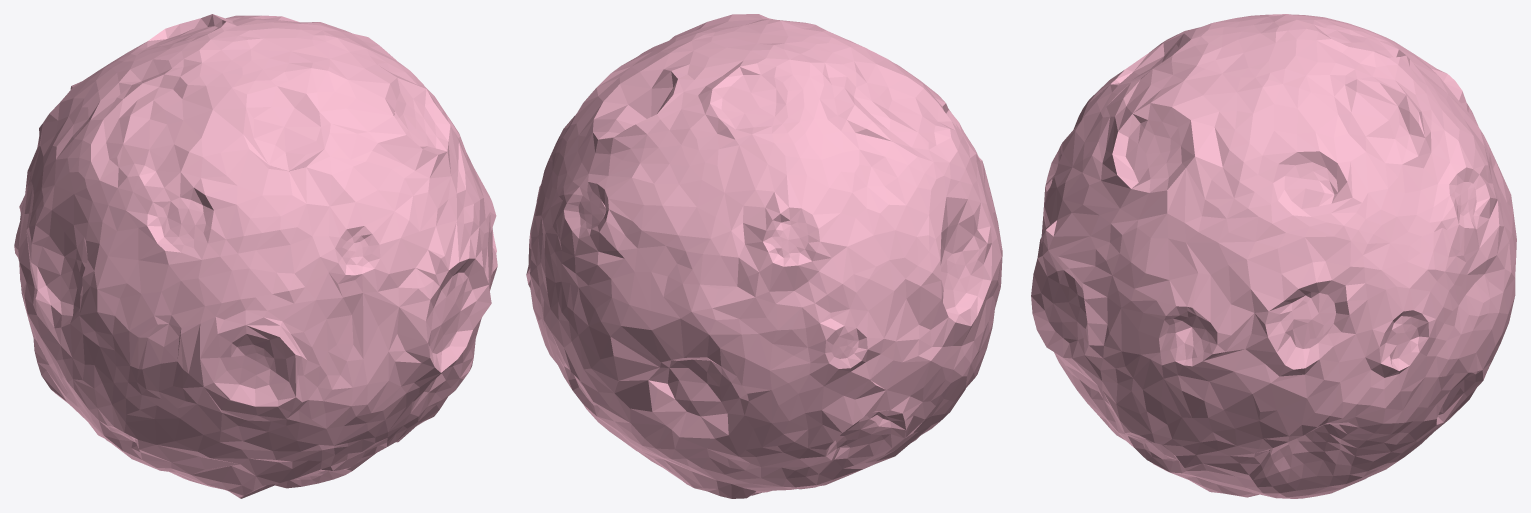
File: Planet_29.glb
The picture shows the model from 3 angles, left to right: view 1: azimuth 30°, elevation 25°; view 2: azimuth 150°, elevation 25°; view 3: azimuth 270°, elevation 25°; orthographic projection. The views are drawn at different scales.
Parts seen in each view (by area): view 1: Planet_29; view 2: Planet_29; view 3: Planet_29.
Boxes of the visible parts, x1,y1,x2,y2 form: Planet_29: [14, 14, 497, 498]; Planet_29: [526, 14, 1002, 498]; Planet_29: [1031, 14, 1516, 498].
Size of the model in its own units: 20.29 by 20.01 by 20.17.
1 material, 1 textured.
